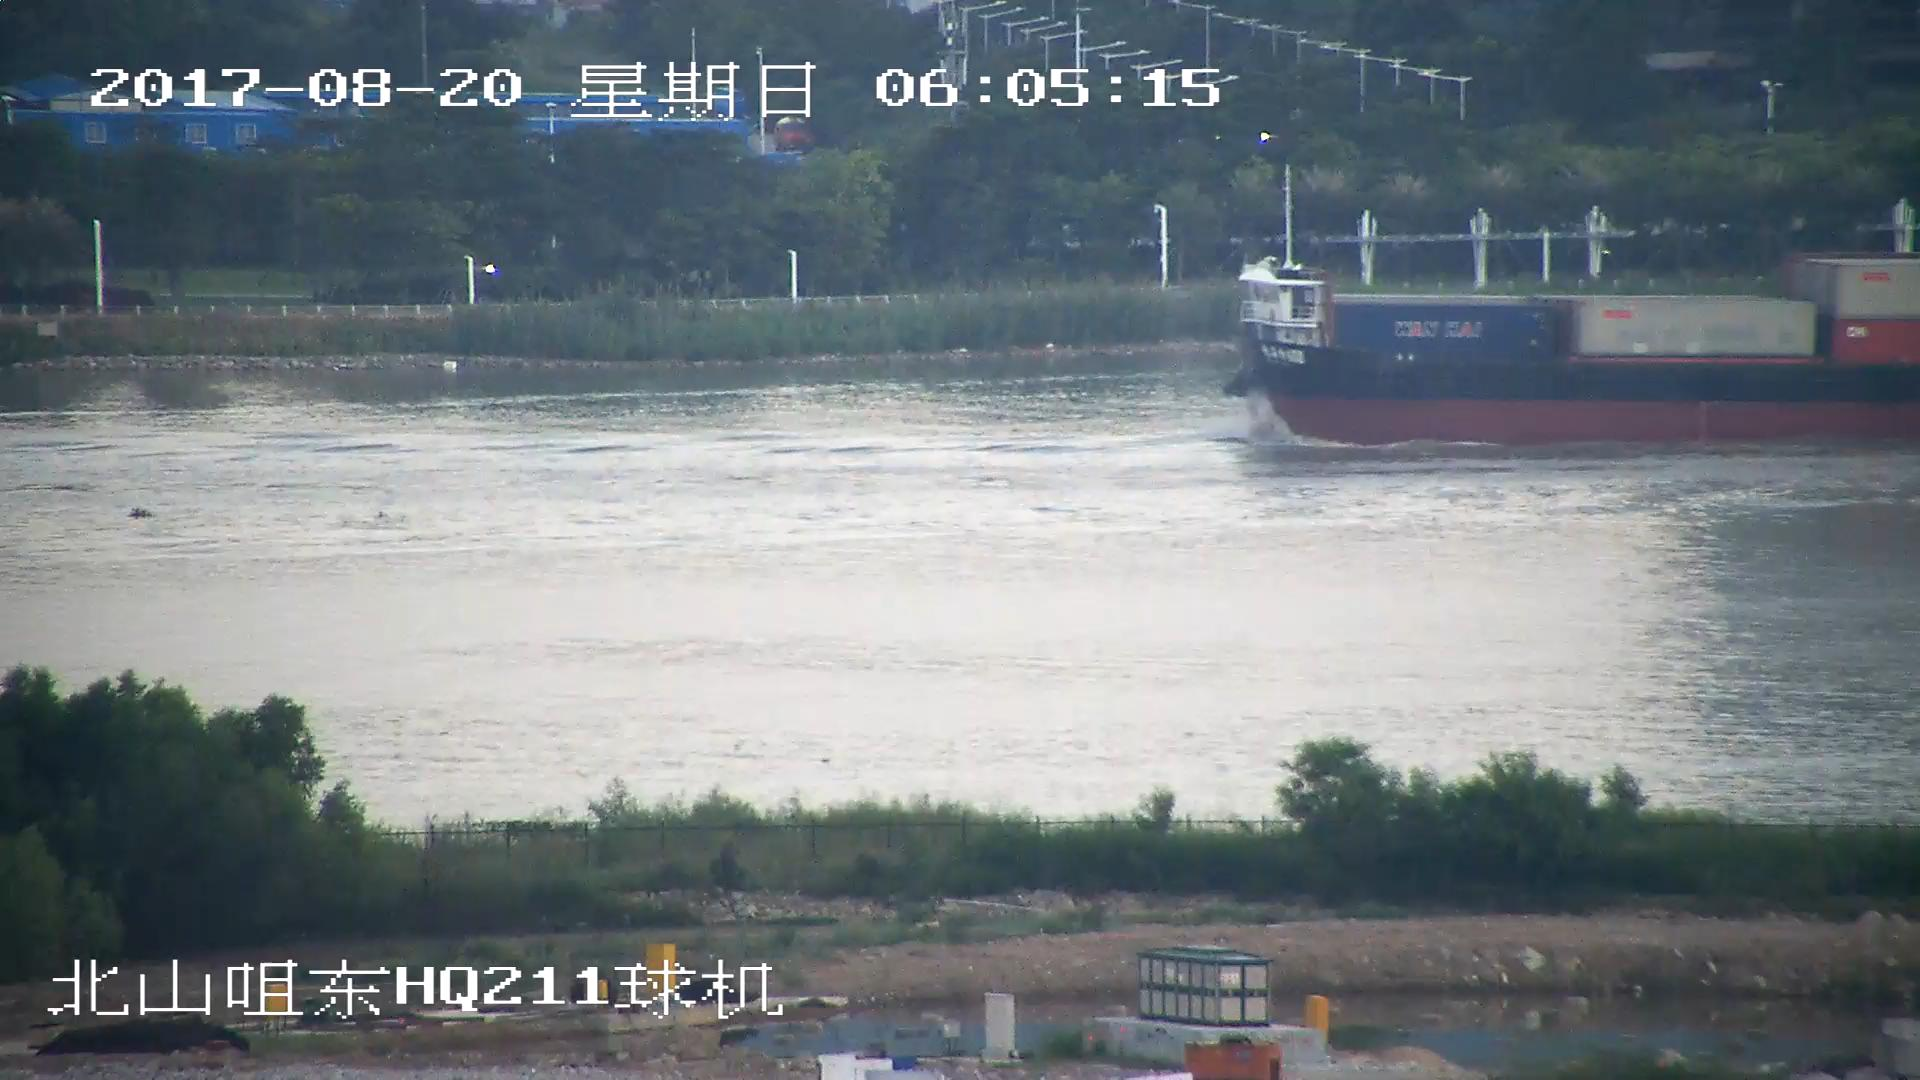container ship: (1225, 255, 1920, 444)
